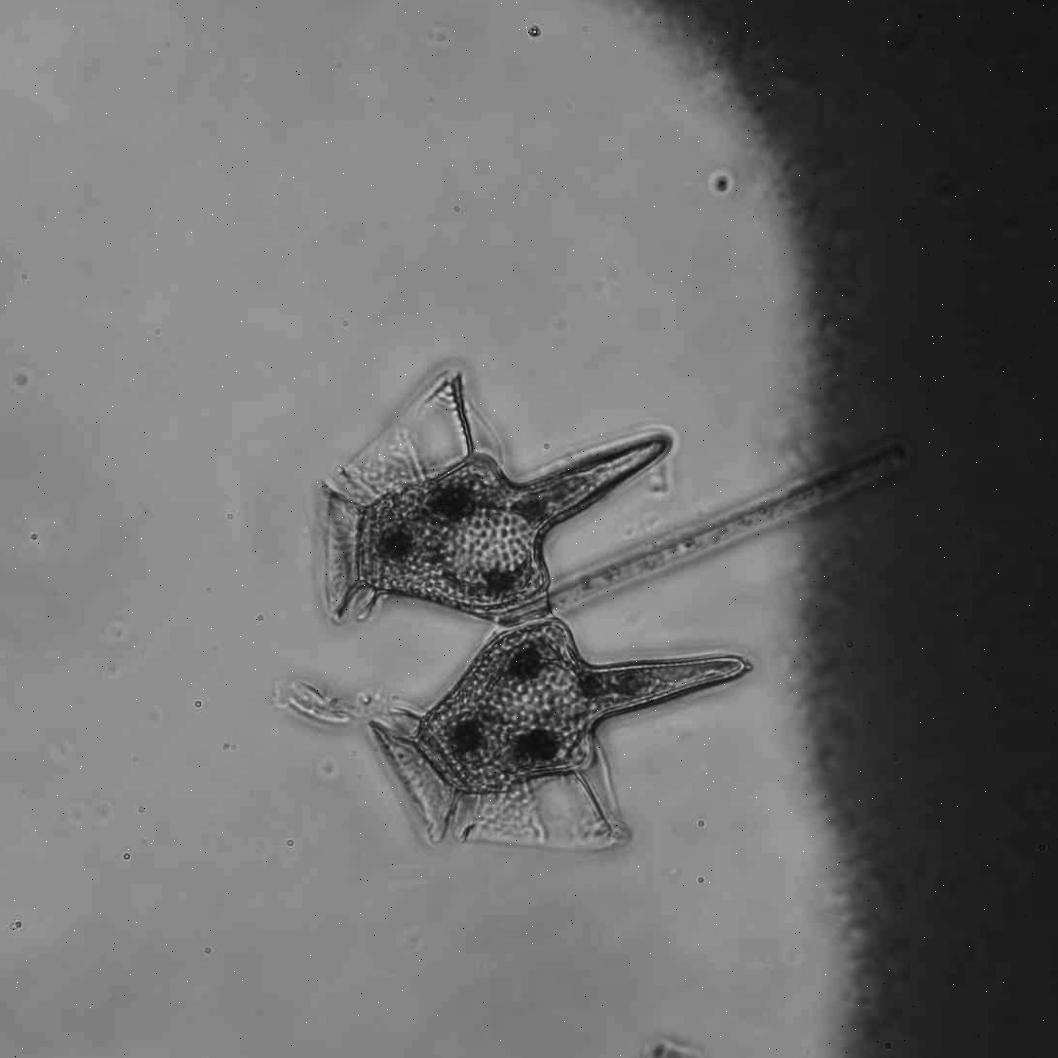dinophysis_caudata: (318, 364, 671, 626), (363, 615, 747, 852)
